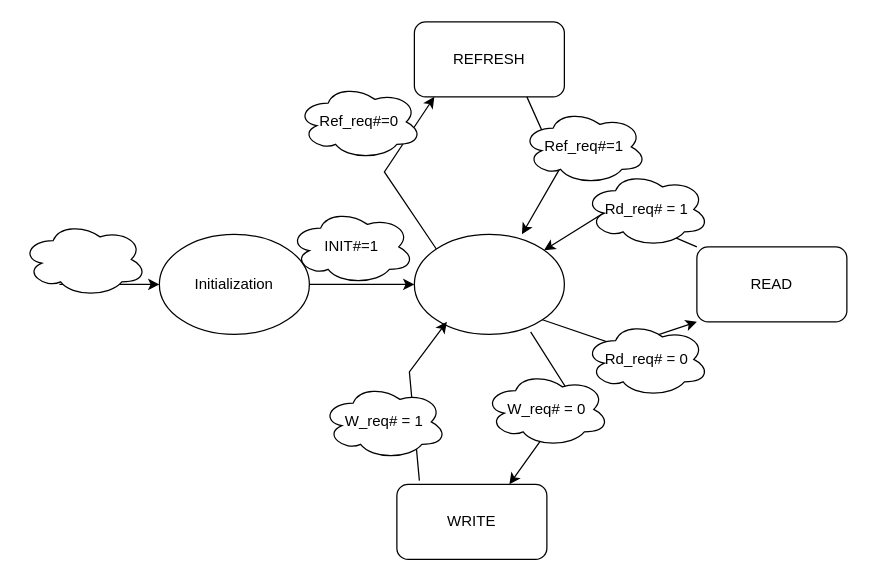
Some shapes in this 869 by 581 pixel diagram are drawn without their labels. The centre of each missing label's shape, as x and y in pixels:
"IDLE" belongs at [488,283].
"RESET#=0" belongs at [84,259].
